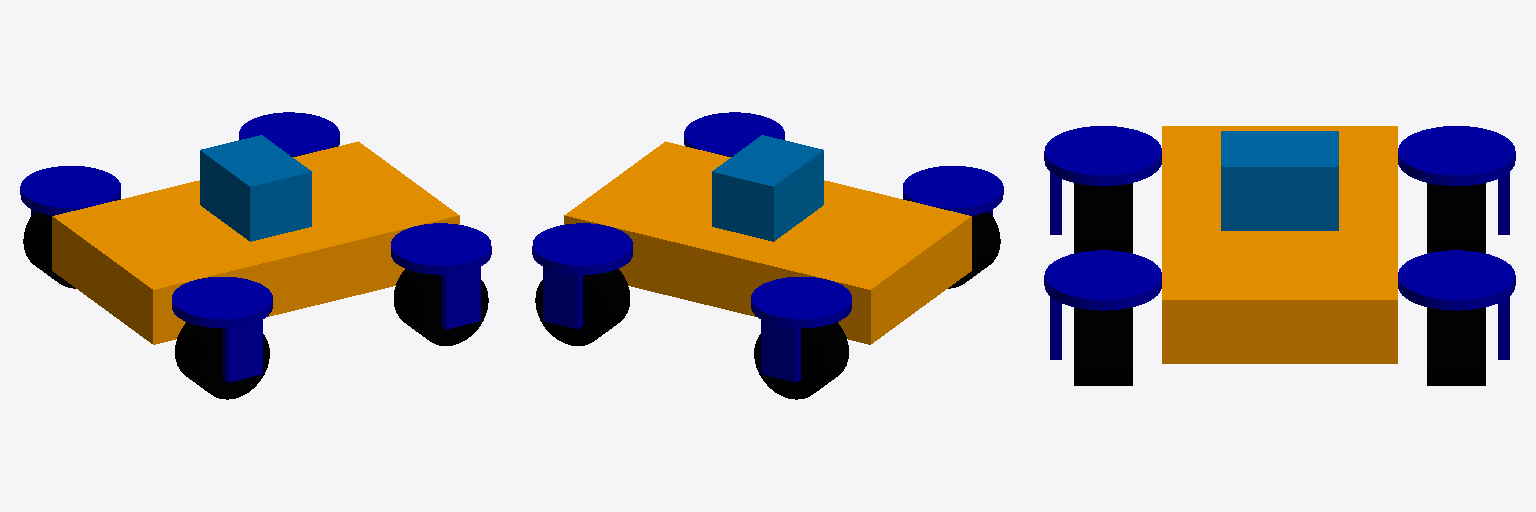
robot.urdf — zinger:
<?xml version="1.0" ?>
<!-- =================================================================================== -->
<!-- |    This document was autogenerated by xacro from base.xacro                     | -->
<!-- |    EDITING THIS FILE BY HAND IS NOT RECOMMENDED                                 | -->
<!-- =================================================================================== -->
<robot name="zinger">
  <!-- INCLUDES -->
  <material name="black">
    <color rgba="0.01 0.01 0.01 1.000"/>
  </material>
  <material name="silver">
    <color rgba="0.700 0.700 0.700 1.000"/>
  </material>
  <material name="gray">
    <color rgba="0.250 0.250 0.250 1.000"/>
  </material>
  <material name="blue">
    <color rgba="0.000 0.000 0.700 1.000"/>
  </material>
  <material name="orange">
    <color rgba="1.000 0.624 0.000 1.000"/>
  </material>
  <!-- Bump sensor -->
  <!-- Sonar sensor -->
  <!-- IR sensor -->
  <!-- Sensors -->
  <gazebo reference="link_wheel_left_front">
    <mu1>0.9</mu1>
    <mu2>0.9</mu2>
    <kp>500000.0</kp>
    <kd>10.0</kd>
    <minDepth>0.001</minDepth>
    <maxVel>0.1</maxVel>
    <fdir1>1 0 0</fdir1>
    <selfCollide>true</selfCollide>
  </gazebo>
  <gazebo reference="link_wheel_left_rear">
    <mu1>0.9</mu1>
    <mu2>0.9</mu2>
    <kp>500000.0</kp>
    <kd>10.0</kd>
    <minDepth>0.001</minDepth>
    <maxVel>0.1</maxVel>
    <fdir1>1 0 0</fdir1>
    <selfCollide>true</selfCollide>
  </gazebo>
  <gazebo reference="link_wheel_right_rear">
    <mu1>0.9</mu1>
    <mu2>0.9</mu2>
    <kp>500000.0</kp>
    <kd>10.0</kd>
    <minDepth>0.001</minDepth>
    <maxVel>0.1</maxVel>
    <fdir1>1 0 0</fdir1>
    <selfCollide>true</selfCollide>
  </gazebo>
  <gazebo reference="link_wheel_right_front">
    <mu1>0.9</mu1>
    <mu2>0.9</mu2>
    <kp>500000.0</kp>
    <kd>10.0</kd>
    <minDepth>0.001</minDepth>
    <maxVel>0.1</maxVel>
    <fdir1>1 0 0</fdir1>
    <selfCollide>true</selfCollide>
  </gazebo>
  <gazebo reference="link_sensor_imu_imu_center">
    <sensor name="imu_center" type="imu">
      <ignition_frame_id>link_sensor_imu_imu_center</ignition_frame_id>
      <always_on>true</always_on>
      <update_rate>25</update_rate>
      <imu>
        <angular_velocity>
          <x>
            <noise type="gaussian">
              <mean>0.0</mean>
              <stddev>0.0</stddev>
            </noise>
          </x>
          <y>
            <noise type="gaussian">
              <mean>0.0</mean>
              <stddev>0.0</stddev>
            </noise>
          </y>
          <z>
            <noise type="gaussian">
              <mean>0.0</mean>
              <stddev>0.0</stddev>
            </noise>
          </z>
        </angular_velocity>
        <linear_acceleration>
          <x>
            <noise type="gaussian">
              <mean>0.0</mean>
              <stddev>0.0</stddev>
            </noise>
          </x>
          <y>
            <noise type="gaussian">
              <mean>0.0</mean>
              <stddev>0.0</stddev>
            </noise>
          </y>
          <z>
            <noise type="gaussian">
              <mean>0.0</mean>
              <stddev>0.0</stddev>
            </noise>
          </z>
        </linear_acceleration>
      </imu>
      <plugin filename="libignition-gazebo-imu-system.so" name="ignition::gazebo::systems::Imu">
        <alwaysOn>true</alwaysOn>
        <updateRate>25</updateRate>
        <topic>imu</topic>
        <imuName>imu_center</imuName>
      </plugin>
    </sensor>
  </gazebo>
  <gazebo reference="joint_body_to_sensor_imu_imu_center">
    <preserveFixedJoint>true</preserveFixedJoint>
  </gazebo>
  <gazebo reference="link_sensor_lidar_rplidar_front">
    <sensor name="rplidar_front" type="gpu_lidar">
      <!--
                    Move the sensor up slightly from the bottom of the lidar unit.
                -->
      <pose>0 0 0.02 0 0 0</pose>
      <alwaysOn>true</alwaysOn>
      <topic>rplidar_front/scan</topic>
      <update_rate>25</update_rate>
      <lidarName>rplidar_front</lidarName>
      <visualize>true</visualize>
      <ignition_frame_id>link_sensor_lidar_rplidar_front</ignition_frame_id>
      <ray>
        <scan>
          <horizontal>
            <samples>640</samples>
            <resolution>1.0</resolution>
            <min_angle>-3.141592653589793</min_angle>
            <max_angle>3.141592653589793</max_angle>
          </horizontal>
          <vertical>
            <samples>1</samples>
            <resolution>1</resolution>
            <min_angle>0</min_angle>
            <max_angle>0</max_angle>
          </vertical>
        </scan>
        <range>
          <min>0.164</min>
          <max>12.0</max>
          <resolution>0.01</resolution>
        </range>
      </ray>
      <plugin filename="libignition-gazebo-sensors-system.so" name="ignition::gazebo::systems::Sensors">
        <render_engine>ogre2</render_engine>
      </plugin>
    </sensor>
  </gazebo>
  <gazebo reference="joint_body_to_sensor_lidar_rplidar_front">
    <preserveFixedJoint>true</preserveFixedJoint>
  </gazebo>
  <gazebo>
    <plugin filename="ign_ros2_control-system" name="ign_ros2_control::IgnitionROS2ControlPlugin">
      <parameters>[local-path]/ROS2/Bharat-Forge-Inter-IIT-24/install/zinger_description/share/zinger_description/config/zinger.yaml</parameters>
    </plugin>
  </gazebo>
  <gazebo>
    <plugin filename="libignition-gazebo-pose-publisher-system.so" name="ignition::gazebo::systems::PosePublisher">
      <publish_link_pose>true</publish_link_pose>
      <publish_sensor_pose>true</publish_sensor_pose>
      <publish_collision_pose>false</publish_collision_pose>
      <publish_visual_pose>false</publish_visual_pose>
      <publish_model_pose>true</publish_model_pose>
      <publish_nested_model_pose>true</publish_nested_model_pose>
      <use_pose_vector_msg>true</use_pose_vector_msg>
      <static_publisher>true</static_publisher>
      <static_update_frequency>-1</static_update_frequency>
    </plugin>
  </gazebo>
  <!-- MODEL -->
  <!--
      An empty base footprint that describes the origin of the robot on the ground
    -->
  <link name="base_footprint">
    </link>
  <!--
      An empty base link that describes the origin of the robot at the c.o.g of the chassis
    -->
  <!--
        Define the connection between base_link and base_footprint. Relative to base_link the joint
        is exactly on the ground plane, because ROS considers the joint frame to be the same
        as the child frame.
    -->
  <joint name="joint_base_to_footprint" type="fixed">
    <origin rpy="0 0 0" xyz="0 0 0.07"/>
    <parent link="base_footprint"/>
    <child link="base_link"/>
  </joint>
  <link name="base_link">
    </link>
  <!--
        A box that pretends to be the ground. Used for testing that the scuttle model has been assembled correctly.
    -->
  <!--
    <joint name="joint_ground_to_footprint" type="fixed">
        <origin rpy="0 0 0" xyz="0 0 0"/>
        <parent link="base_footprint"/>
        <child link="ground_for_testing"/>
    </joint>
    <link name="ground_for_testing">
        <visual>
            <geometry>
                <box size="0.5 0.5 0.01"/>
            </geometry>
            <origin rpy="0 0 0" xyz="0.25 -0.25 -0.005"/>
        </visual>
    </link>
    -->
  <!-- The chassis of zinger -->
  <!--
        Define the connection between base_link and chassis_link. Relative to base_link the joint
        is exactly in the c.o.g of the chassis, because ROS considers the joint frame to be the same
        as the child frame.
    -->
  <joint name="chassis_joint" type="fixed">
    <origin rpy="0 0 0" xyz="0.0 0 0.0"/>
    <parent link="base_link"/>
    <child link="chassis_link"/>
  </joint>
  <!--
      The coordinate framework has the X-asis in the direction of forward motion, with the y-axis pointing
      to the left. This is equivalent to the coordinate system defined by the kinematics guide.
    -->
  <link name="chassis_link">
    <inertial>
      <origin rpy="0 0 0" xyz="0 0 0.0"/>
      <mass value="1.0"/>
      <inertia ixx="0.003633333333333334" ixy="0" ixz="0" iyy="0.010508333333333331" iyz="0" izz="0.013541666666666664"/>
    </inertial>
    <visual>
      <origin rpy="0 0 0" xyz="0 0 0.0"/>
      <geometry>
        <box size="0.35 0.2 0.06"/>
      </geometry>
      <material name="orange"/>
    </visual>
    <collision>
      <origin rpy="0 0 0" xyz="0 0 0.0"/>
      <geometry>
        <box size="0.35 0.2 0.06"/>
      </geometry>
    </collision>
  </link>
  <joint name="joint_chassis_to_steering_left_front" type="continuous">
    <origin rpy="0 0 0" xyz="0.12499999999999999 0.15000000000000002 0.024999999999999998"/>
    <parent link="chassis_link"/>
    <child link="link_steering_left_front"/>
    <axis xyz="0.0 0.0 1.0"/>
  </joint>
  <link name="link_steering_left_front">
    <inertial>
      <origin rpy="0 0 0" xyz="0 0 0"/>
      <mass value="0.2"/>
      <inertia ixx="0.0001266666666666667" ixy="0" ixz="0" iyy="0.0001266666666666667" iyz="0" izz="0.00025000000000000006"/>
    </inertial>
    <visual>
      <origin rpy="0 0 0" xyz="0 0 0"/>
      <geometry>
        <cylinder length="0.01" radius="0.05"/>
      </geometry>
      <material name="blue"/>
    </visual>
    <collision>
      <origin rpy="0 0 0" xyz="0 0 0"/>
      <geometry>
        <cylinder length="0.01" radius="0.05"/>
      </geometry>
    </collision>
    <visual>
      <origin rpy="0 0 0" xyz="0 0.04 -0.035"/>
      <geometry>
        <box size="0.04 0.01 0.06"/>
      </geometry>
      <material name="blue"/>
    </visual>
    <collision>
      <origin rpy="0 0 0" xyz="0 0.04 -0.035"/>
      <geometry>
        <box size="0.04 0.01 0.06"/>
      </geometry>
    </collision>
  </link>
  <joint name="joint_steering_to_wheel_left_front" type="continuous">
    <origin rpy="0 0 0" xyz="0 0 -0.055"/>
    <parent link="link_steering_left_front"/>
    <child link="link_wheel_left_front"/>
    <axis xyz="0.0 1.0 0.0"/>
  </joint>
  <link name="link_wheel_left_front">
    <inertial>
      <origin rpy="1.5707963267948966 0 0" xyz="0 0 0"/>
      <mass value="0.2"/>
      <inertia ixx="0.00012166666666666667" ixy="0" ixz="0" iyy="0.00012166666666666667" iyz="0" izz="0.00016"/>
    </inertial>
    <visual>
      <origin rpy="1.5707963267948966 0 0" xyz="0 0 0"/>
      <geometry>
        <cylinder length="0.05" radius="0.04"/>
      </geometry>
      <material name="black"/>
    </visual>
    <collision>
      <origin rpy="1.5707963267948966 0 0" xyz="0 0 0"/>
      <geometry>
        <cylinder length="0.05" radius="0.04"/>
      </geometry>
    </collision>
  </link>
  <joint name="joint_chassis_to_steering_left_rear" type="continuous">
    <origin rpy="0 0 0" xyz="-0.12499999999999999 0.15000000000000002 0.024999999999999998"/>
    <parent link="chassis_link"/>
    <child link="link_steering_left_rear"/>
    <axis xyz="0.0 0.0 1.0"/>
  </joint>
  <link name="link_steering_left_rear">
    <inertial>
      <origin rpy="0 0 0" xyz="0 0 0"/>
      <mass value="0.2"/>
      <inertia ixx="0.0001266666666666667" ixy="0" ixz="0" iyy="0.0001266666666666667" iyz="0" izz="0.00025000000000000006"/>
    </inertial>
    <visual>
      <origin rpy="0 0 0" xyz="0 0 0"/>
      <geometry>
        <cylinder length="0.01" radius="0.05"/>
      </geometry>
      <material name="blue"/>
    </visual>
    <collision>
      <origin rpy="0 0 0" xyz="0 0 0"/>
      <geometry>
        <cylinder length="0.01" radius="0.05"/>
      </geometry>
    </collision>
    <visual>
      <origin rpy="0 0 0" xyz="0 0.04 -0.035"/>
      <geometry>
        <box size="0.04 0.01 0.06"/>
      </geometry>
      <material name="blue"/>
    </visual>
    <collision>
      <origin rpy="0 0 0" xyz="0 0.04 -0.035"/>
      <geometry>
        <box size="0.04 0.01 0.06"/>
      </geometry>
    </collision>
  </link>
  <joint name="joint_steering_to_wheel_left_rear" type="continuous">
    <origin rpy="0 0 0" xyz="0 0 -0.055"/>
    <parent link="link_steering_left_rear"/>
    <child link="link_wheel_left_rear"/>
    <axis xyz="0.0 1.0 0.0"/>
  </joint>
  <link name="link_wheel_left_rear">
    <inertial>
      <origin rpy="1.5707963267948966 0 0" xyz="0 0 0"/>
      <mass value="0.2"/>
      <inertia ixx="0.00012166666666666667" ixy="0" ixz="0" iyy="0.00012166666666666667" iyz="0" izz="0.00016"/>
    </inertial>
    <visual>
      <origin rpy="1.5707963267948966 0 0" xyz="0 0 0"/>
      <geometry>
        <cylinder length="0.05" radius="0.04"/>
      </geometry>
      <material name="black"/>
    </visual>
    <collision>
      <origin rpy="1.5707963267948966 0 0" xyz="0 0 0"/>
      <geometry>
        <cylinder length="0.05" radius="0.04"/>
      </geometry>
    </collision>
  </link>
  <joint name="joint_chassis_to_steering_right_rear" type="continuous">
    <origin rpy="0 0 0" xyz="-0.12499999999999999 -0.15000000000000002 0.024999999999999998"/>
    <parent link="chassis_link"/>
    <child link="link_steering_right_rear"/>
    <axis xyz="0.0 0.0 1.0"/>
  </joint>
  <link name="link_steering_right_rear">
    <inertial>
      <origin rpy="0 0 0" xyz="0 0 0"/>
      <mass value="0.2"/>
      <inertia ixx="0.0001266666666666667" ixy="0" ixz="0" iyy="0.0001266666666666667" iyz="0" izz="0.00025000000000000006"/>
    </inertial>
    <visual>
      <origin rpy="0 0 0" xyz="0 0 0"/>
      <geometry>
        <cylinder length="0.01" radius="0.05"/>
      </geometry>
      <material name="blue"/>
    </visual>
    <collision>
      <origin rpy="0 0 0" xyz="0 0 0"/>
      <geometry>
        <cylinder length="0.01" radius="0.05"/>
      </geometry>
    </collision>
    <visual>
      <origin rpy="0 0 0" xyz="0 -0.04 -0.035"/>
      <geometry>
        <box size="0.04 0.01 0.06"/>
      </geometry>
      <material name="blue"/>
    </visual>
    <collision>
      <origin rpy="0 0 0" xyz="0 -0.04 -0.035"/>
      <geometry>
        <box size="0.04 0.01 0.06"/>
      </geometry>
    </collision>
  </link>
  <joint name="joint_steering_to_wheel_right_rear" type="continuous">
    <origin rpy="0 0 0" xyz="0 0 -0.055"/>
    <parent link="link_steering_right_rear"/>
    <child link="link_wheel_right_rear"/>
    <axis xyz="0.0 1.0 0.0"/>
  </joint>
  <link name="link_wheel_right_rear">
    <inertial>
      <origin rpy="1.5707963267948966 0 0" xyz="0 0 0"/>
      <mass value="0.2"/>
      <inertia ixx="0.00012166666666666667" ixy="0" ixz="0" iyy="0.00012166666666666667" iyz="0" izz="0.00016"/>
    </inertial>
    <visual>
      <origin rpy="1.5707963267948966 0 0" xyz="0 0 0"/>
      <geometry>
        <cylinder length="0.05" radius="0.04"/>
      </geometry>
      <material name="black"/>
    </visual>
    <collision>
      <origin rpy="1.5707963267948966 0 0" xyz="0 0 0"/>
      <geometry>
        <cylinder length="0.05" radius="0.04"/>
      </geometry>
    </collision>
  </link>
  <joint name="joint_chassis_to_steering_right_front" type="continuous">
    <origin rpy="0 0 0" xyz="0.12499999999999999 -0.15000000000000002 0.024999999999999998"/>
    <parent link="chassis_link"/>
    <child link="link_steering_right_front"/>
    <axis xyz="0.0 0.0 1.0"/>
  </joint>
  <link name="link_steering_right_front">
    <inertial>
      <origin rpy="0 0 0" xyz="0 0 0"/>
      <mass value="0.2"/>
      <inertia ixx="0.0001266666666666667" ixy="0" ixz="0" iyy="0.0001266666666666667" iyz="0" izz="0.00025000000000000006"/>
    </inertial>
    <visual>
      <origin rpy="0 0 0" xyz="0 0 0"/>
      <geometry>
        <cylinder length="0.01" radius="0.05"/>
      </geometry>
      <material name="blue"/>
    </visual>
    <collision>
      <origin rpy="0 0 0" xyz="0 0 0"/>
      <geometry>
        <cylinder length="0.01" radius="0.05"/>
      </geometry>
    </collision>
    <visual>
      <origin rpy="0 0 0" xyz="0 -0.04 -0.035"/>
      <geometry>
        <box size="0.04 0.01 0.06"/>
      </geometry>
      <material name="blue"/>
    </visual>
    <collision>
      <origin rpy="0 0 0" xyz="0 -0.04 -0.035"/>
      <geometry>
        <box size="0.04 0.01 0.06"/>
      </geometry>
    </collision>
  </link>
  <joint name="joint_steering_to_wheel_right_front" type="continuous">
    <origin rpy="0 0 0" xyz="0 0 -0.055"/>
    <parent link="link_steering_right_front"/>
    <child link="link_wheel_right_front"/>
    <axis xyz="0.0 1.0 0.0"/>
  </joint>
  <link name="link_wheel_right_front">
    <inertial>
      <origin rpy="1.5707963267948966 0 0" xyz="0 0 0"/>
      <mass value="0.2"/>
      <inertia ixx="0.00012166666666666667" ixy="0" ixz="0" iyy="0.00012166666666666667" iyz="0" izz="0.00016"/>
    </inertial>
    <visual>
      <origin rpy="1.5707963267948966 0 0" xyz="0 0 0"/>
      <geometry>
        <cylinder length="0.05" radius="0.04"/>
      </geometry>
      <material name="black"/>
    </visual>
    <collision>
      <origin rpy="1.5707963267948966 0 0" xyz="0 0 0"/>
      <geometry>
        <cylinder length="0.05" radius="0.04"/>
      </geometry>
    </collision>
  </link>
  <ros2_control name="ZingerJointControl" type="system">
    <hardware>
      <plugin>ign_ros2_control/IgnitionSystem</plugin>
    </hardware>
    <joint name="joint_chassis_to_steering_left_front">
      <command_interface name="position">
        <param name="min">-6.283185307179586</param>
        <param name="max">6.283185307179586</param>
      </command_interface>
      <state_interface name="position"/>
      <state_interface name="velocity"/>
      <state_interface name="acceleration"/>
    </joint>
    <joint name="joint_steering_to_wheel_left_front">
      <command_interface name="velocity">
        <param name="min">-1</param>
        <param name="max">1</param>
      </command_interface>
      <state_interface name="position"/>
      <state_interface name="velocity"/>
      <state_interface name="acceleration"/>
    </joint>
    <joint name="joint_chassis_to_steering_left_rear">
      <command_interface name="position">
        <param name="min">-6.283185307179586</param>
        <param name="max">6.283185307179586</param>
      </command_interface>
      <state_interface name="position"/>
      <state_interface name="velocity"/>
      <state_interface name="acceleration"/>
    </joint>
    <joint name="joint_steering_to_wheel_left_rear">
      <command_interface name="velocity">
        <param name="min">-1</param>
        <param name="max">1</param>
      </command_interface>
      <state_interface name="position"/>
      <state_interface name="velocity"/>
      <state_interface name="acceleration"/>
    </joint>
    <joint name="joint_chassis_to_steering_right_rear">
      <command_interface name="position">
        <param name="min">-6.283185307179586</param>
        <param name="max">6.283185307179586</param>
      </command_interface>
      <state_interface name="position"/>
      <state_interface name="velocity"/>
      <state_interface name="acceleration"/>
    </joint>
    <joint name="joint_steering_to_wheel_right_rear">
      <command_interface name="velocity">
        <param name="min">-1</param>
        <param name="max">1</param>
      </command_interface>
      <state_interface name="position"/>
      <state_interface name="velocity"/>
      <state_interface name="acceleration"/>
    </joint>
    <joint name="joint_chassis_to_steering_right_front">
      <command_interface name="position">
        <param name="min">-6.283185307179586</param>
        <param name="max">6.283185307179586</param>
      </command_interface>
      <state_interface name="position"/>
      <state_interface name="velocity"/>
      <state_interface name="acceleration"/>
    </joint>
    <joint name="joint_steering_to_wheel_right_front">
      <command_interface name="velocity">
        <param name="min">-1</param>
        <param name="max">1</param>
      </command_interface>
      <state_interface name="position"/>
      <state_interface name="velocity"/>
      <state_interface name="acceleration"/>
    </joint>
  </ros2_control>
  <!-- Sensors -->
  <joint name="joint_body_to_sensor_imu_imu_center" type="fixed">
    <origin rpy="0 0 0" xyz="0.0 0.0 0.0"/>
    <parent link="chassis_link"/>
    <child link="link_sensor_imu_imu_center"/>
  </joint>
  <link name="link_sensor_imu_imu_center">
    <visual>
      <origin xyz="0.005 0.005 0.005"/>
      <geometry>
        <box size="0.01 0.01 0.01"/>
      </geometry>
    </visual>
    <collision>
      <origin xyz="0.005 0.005 0.005"/>
      <geometry>
        <box size="0.01 0.01 0.01"/>
      </geometry>
    </collision>
    <inertial>
      <mass value="0.01"/>
      <origin rpy="0 0 0" xyz="0.0 0.0 0.0"/>
      <inertia ixx="1.6666666666666668e-07" ixy="0.0" ixz="0.0" iyy="1.6666666666666668e-07" iyz="0.0" izz="1.6666666666666668e-07"/>
    </inertial>
  </link>
  <joint name="joint_body_to_sensor_lidar_rplidar_front" type="fixed">
    <parent link="chassis_link"/>
    <child link="link_sensor_lidar_rplidar_front"/>
    <origin rpy="0 0 0" xyz="0 0 0.03"/>
  </joint>
  <link name="link_sensor_lidar_rplidar_front">
    <visual>
      <origin rpy="0 0 0" xyz="0.0 0 0.03"/>
      <geometry>
        <box size="0.071 0.1 0.06"/>
      </geometry>
    </visual>
    <collision>
      <origin rpy="0 0 0" xyz="0.0 0 0.03"/>
      <geometry>
        <box size="0.071 0.1 0.06"/>
      </geometry>
    </collision>
    <inertial>
      <mass value="0.17"/>
      <origin rpy="0 0 0" xyz="0.0 0 0.03"/>
      <inertia ixx="0.0001926666666666667" ixy="0.0" ixz="0.0" iyy="0.00012241416666666666" iyz="0.0" izz="0.00021308083333333337"/>
    </inertial>
  </link>
  <!-- Bump -->
  <!-- Sonar -->
  <!-- IR -->
  <!-- Cliff sensors -->
</robot>

--- What the picture shows (computed from the rendered views, not written in the file) ---
Views: 3 orthographic renders of the robot side by side, from view 1: azimuth 30°, elevation 25°; view 2: azimuth 150°, elevation 25°; view 3: azimuth 270°, elevation 25°.
Model zinger with 13 links and 12 joints (8 continuous, 4 fixed), rooted at base_footprint, posed all joints at 0.
Visible links, largest first — view 1: chassis_link, link_sensor_lidar_rplidar_front, link_steering_right_rear, link_steering_right_front, link_steering_left_rear, link_wheel_right_rear, link_wheel_right_front, link_steering_left_front, link_wheel_left_rear; view 2: chassis_link, link_sensor_lidar_rplidar_front, link_steering_left_front, link_steering_left_rear, link_steering_right_rear, link_wheel_left_rear, link_wheel_left_front, link_steering_right_front, link_wheel_right_rear; view 3: chassis_link, link_sensor_lidar_rplidar_front, link_steering_left_front, link_steering_right_front, link_steering_left_rear, link_steering_right_rear, link_wheel_left_front, link_wheel_right_front, link_wheel_left_rear, link_wheel_right_rear.
Link boxes in pixels (bbox=[...]): chassis_link: bbox=[52, 141, 459, 344]; link_sensor_lidar_rplidar_front: bbox=[200, 135, 311, 241]; link_steering_right_rear: bbox=[172, 277, 272, 382]; link_steering_right_front: bbox=[391, 223, 491, 329]; link_steering_left_rear: bbox=[20, 166, 120, 215]; link_wheel_right_rear: bbox=[175, 322, 269, 399]; link_wheel_right_front: bbox=[394, 269, 488, 345]; link_steering_left_front: bbox=[239, 112, 339, 156]; link_wheel_left_rear: bbox=[23, 211, 75, 288]; chassis_link: bbox=[564, 141, 971, 344]; link_sensor_lidar_rplidar_front: bbox=[712, 135, 823, 241]; link_steering_left_front: bbox=[532, 223, 632, 329]; link_steering_left_rear: bbox=[751, 277, 851, 382]; link_steering_right_rear: bbox=[903, 166, 1003, 215]; link_wheel_left_rear: bbox=[754, 322, 848, 399]; link_wheel_left_front: bbox=[535, 269, 629, 345]; link_steering_right_front: bbox=[684, 112, 784, 156]; link_wheel_right_rear: bbox=[948, 211, 1000, 288]; chassis_link: bbox=[1162, 126, 1397, 363]; link_sensor_lidar_rplidar_front: bbox=[1221, 131, 1338, 230]; link_steering_left_front: bbox=[1398, 250, 1515, 359]; link_steering_right_front: bbox=[1044, 250, 1161, 359]; link_steering_left_rear: bbox=[1398, 126, 1515, 234]; link_steering_right_rear: bbox=[1044, 126, 1161, 234]; link_wheel_left_front: bbox=[1427, 307, 1485, 385]; link_wheel_right_front: bbox=[1074, 307, 1132, 385]; link_wheel_left_rear: bbox=[1427, 183, 1485, 253]; link_wheel_right_rear: bbox=[1074, 183, 1132, 253].
Size in the robot's own frame: 0.35 by 0.4 by 0.16 metres.
Geometry: primitives only (box / cylinder / sphere), no mesh files.